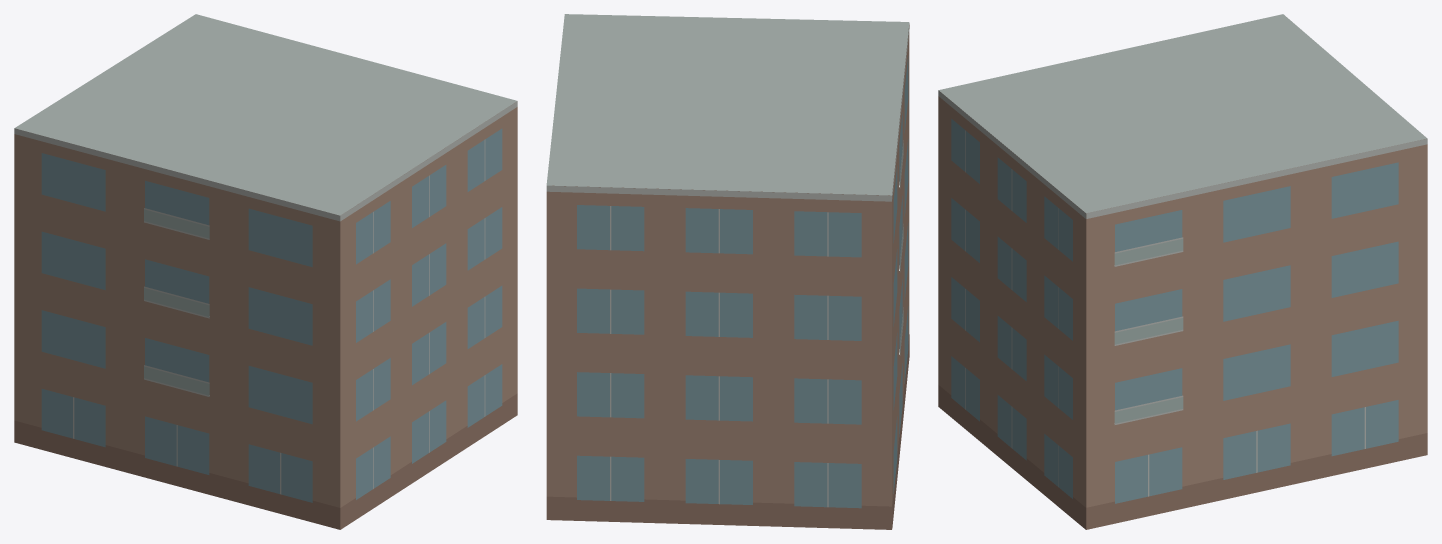
Rendered from survey-upis-32629313.glb.
3 renders of one model, left to right at view 1: azimuth 30°, elevation 25°; view 2: azimuth 150°, elevation 25°; view 3: azimuth 270°, elevation 25°, orthographic. The views are drawn at different scales.
Parts seen in each view (by area): view 1: survey-upis-32629313.tmp; view 2: survey-upis-32629313.tmp; view 3: survey-upis-32629313.tmp.
Boxes of the visible parts, bbox=[...] form: survey-upis-32629313.tmp: bbox=[14, 14, 517, 529]; survey-upis-32629313.tmp: bbox=[546, 14, 909, 529]; survey-upis-32629313.tmp: bbox=[938, 14, 1427, 529].
Bounding box in the file's own units: 17.84 × 13.2 × 18.49.
